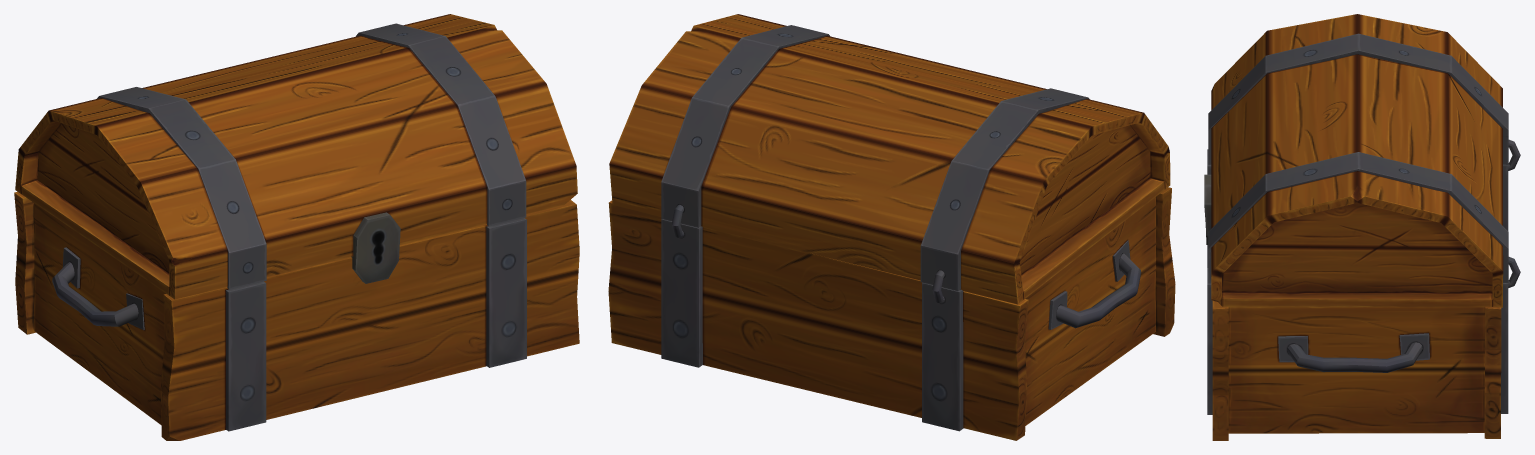
The model's file is Chest.glb.
3 renders of one model, left to right at view 1: azimuth 30°, elevation 25°; view 2: azimuth 150°, elevation 25°; view 3: azimuth 270°, elevation 25°, orthographic. The views are drawn at different scales.
Parts seen in each view (by area): view 1: chest cover, chest _chest wood_0, chest _chest Metal_0; view 2: chest cover, chest _chest wood_0, chest _chest Metal_0; view 3: chest cover, chest _chest wood_0, chest _chest Metal_0.
Part boxes in pixels (x1=…): chest cover: x1=15, y1=14, x2=577, y2=299; chest _chest wood_0: x1=14, y1=191, x2=579, y2=440; chest _chest Metal_0: x1=52, y1=218, x2=526, y2=431; chest cover: x1=609, y1=14, x2=1170, y2=304; chest _chest wood_0: x1=608, y1=187, x2=1175, y2=440; chest _chest Metal_0: x1=661, y1=219, x2=1141, y2=431; chest cover: x1=1204, y1=14, x2=1520, y2=307; chest _chest wood_0: x1=1212, y1=300, x2=1501, y2=440; chest _chest Metal_0: x1=1207, y1=149, x2=1508, y2=414.
Bounding box in the file's own units: 3.95 × 2.2 × 2.57.
2 materials, 2 textured.
